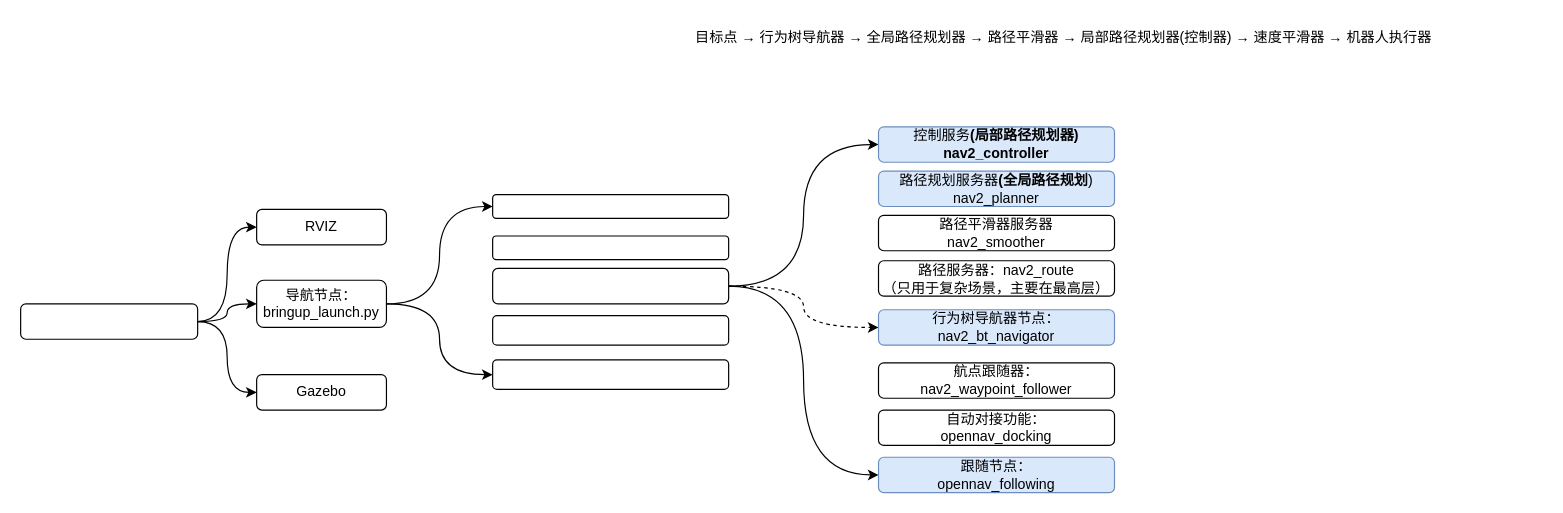
This 1563x513 diagram has some shape labels left out. The shapes that lost their labels are listed below. From the top down, each one's box as (x1, y1, x2, y2) in pixels, then its label:
(491, 194, 729, 218): (条件启动)SLAM建图
(491, 235, 729, 260): (条件启动)定位启动
(491, 267, 729, 304): (必须启动) 导航启动navigation_launch.py
(19, 303, 198, 339): tb3_simulation_launch.py
(491, 314, 729, 345): (条件启动)速度区域启动
(491, 359, 729, 389): (条件启动)障碍物区域
